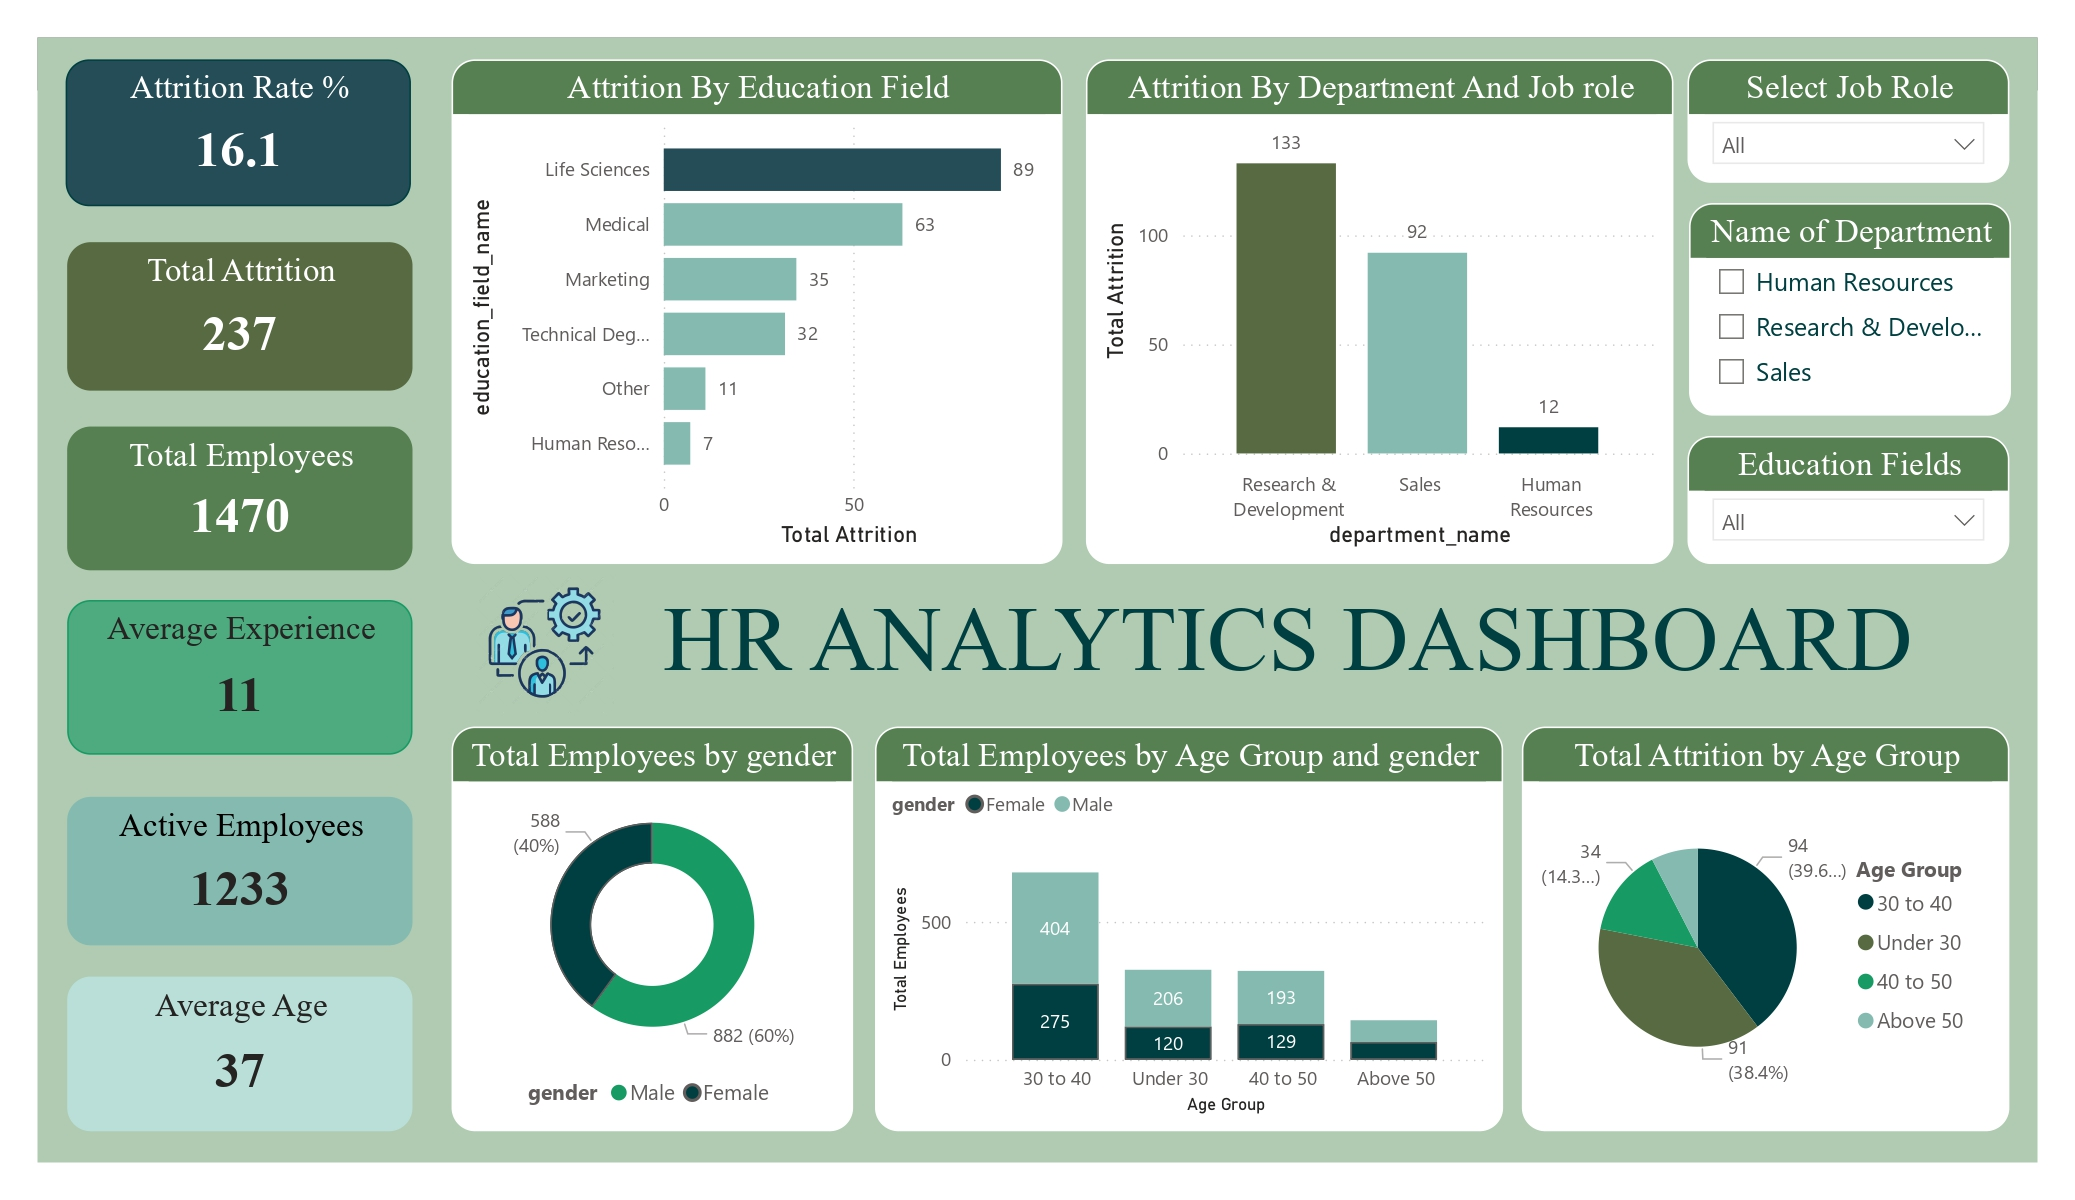

What the dashboard file says about the page in this screenshot:
{"tool":"powerbi","page":{"name":"Page 1","canvas":[1280,720],"ordinal":0},"visuals":[{"type":"card","title":"Attrition Rate %","fields":{"Values":["hr_analytics hr_master_view.Attrition Rate"]},"box":[18.4,14,220.9,94.2],"z":0},{"type":"card","title":"Active Employees","fields":{"Values":["hr_analytics hr_master_view.Active Employees"]},"box":[18.6,486,220.9,95.3],"z":1000},{"type":"card","title":"Average Age","fields":{"Values":["Avg(hr_analytics hr_master_view.age)"]},"box":[18.6,601.2,220.9,98.8],"z":2000},{"type":"card","title":"Total Attrition","fields":{"Values":["hr_analytics hr_master_view.Total Attrition"]},"box":[18.6,131.4,220.9,94.2],"z":3000},{"type":"card","title":"Total Employees","fields":{"Values":["hr_analytics hr_master_view.Total Employees"]},"box":[18.6,248.8,220.9,91.9],"z":4000},{"type":"clusteredColumnChart","title":"Attrition By Department And Job role","fields":{"Category":["hr_analytics hr_master_view.department_name"],"Y":["hr_analytics hr_master_view.Total Attrition"]},"box":[670.9,14,375.6,323.3],"z":5000},{"type":"barChart","title":"Attrition By Education Field","fields":{"Category":["hr_analytics hr_master_view.education_field_name"],"Y":["hr_analytics hr_master_view.Total Attrition"]},"box":[265.1,14,390.7,323.3],"z":6000},{"type":"donutChart","fields":{"Category":["hr_analytics hr_master_view.gender"],"Y":["hr_analytics hr_master_view.Total Employees"]},"box":[265.1,440.7,257,259.3],"z":7000},{"type":"pieChart","fields":{"Category":["hr_analytics hr_master_view.Age Group"],"Y":["hr_analytics hr_master_view.Total Attrition"]},"box":[950,440.7,311.6,259.3],"z":8000},{"type":"slicer","title":"Name of Department","fields":{"Values":["hr_analytics hr_master_view.department_name"]},"box":[1057,105.8,205.8,136],"z":9000},{"type":"slicer","title":"Select Job Role","fields":{"Values":["hr_analytics hr_master_view.job_role_name"]},"box":[1055.8,14,205.8,79.1],"z":10000},{"type":"textbox","box":[264.6,347.3,997.2,79.3],"z":11000},{"type":"slicer","title":"Education Fields","fields":{"Values":["hr_analytics hr_master_view.education_field_name"]},"box":[1055.8,254.7,205.8,82.6],"z":12000},{"type":"columnChart","fields":{"Y":["hr_analytics hr_master_view.Total Employees"],"Category":["hr_analytics hr_master_view.Age Group"],"Series":["hr_analytics hr_master_view.gender"]},"box":[536,440.7,402.3,259.3],"z":13000},{"type":"card","title":"Average Experience","fields":{"Values":["hr_analytics hr_master_view.Average Experience"]},"box":[18.6,360.5,220.9,98.8],"z":14000},{"type":"image","box":[254.6,342.8,138.5,89.3],"z":15000}]}

Visuals, with their boxes on the page's 1280x720 design canvas (x1, y1, x2, y2). These are canvas units, not pixel positions in the 2075x1200 screenshot, which may show the page scaled, cropped or inside an application window:
"Attrition Rate %" card: rect(18, 14, 239, 108)
"Active Employees" card: rect(19, 486, 240, 581)
"Average Age" card: rect(19, 601, 240, 700)
"Total Attrition" card: rect(19, 131, 240, 226)
"Total Employees" card: rect(19, 249, 240, 341)
"Attrition By Department And Job role" clusteredColumnChart: rect(671, 14, 1046, 337)
"Attrition By Education Field" barChart: rect(265, 14, 656, 337)
donutChart - hr_analytics hr_master_view.gender x hr_analytics hr_master_view.Total Employees: rect(265, 441, 522, 700)
pieChart - hr_analytics hr_master_view.Age Group x hr_analytics hr_master_view.Total Attrition: rect(950, 441, 1262, 700)
"Name of Department" slicer: rect(1057, 106, 1263, 242)
"Select Job Role" slicer: rect(1056, 14, 1262, 93)
textbox: rect(265, 347, 1262, 427)
"Education Fields" slicer: rect(1056, 255, 1262, 337)
columnChart - hr_analytics hr_master_view.Total Employees x hr_analytics hr_master_view.Age Group: rect(536, 441, 938, 700)
"Average Experience" card: rect(19, 360, 240, 459)
image: rect(255, 343, 393, 432)
